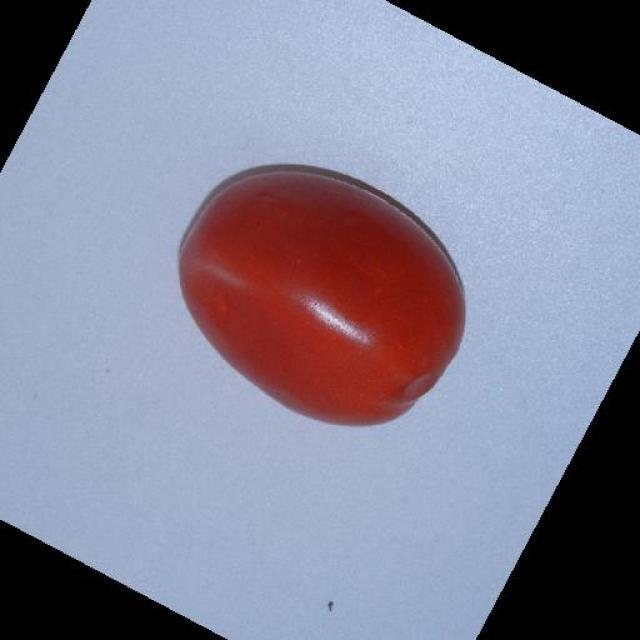Fresh Tomato: (158, 153, 490, 460)
